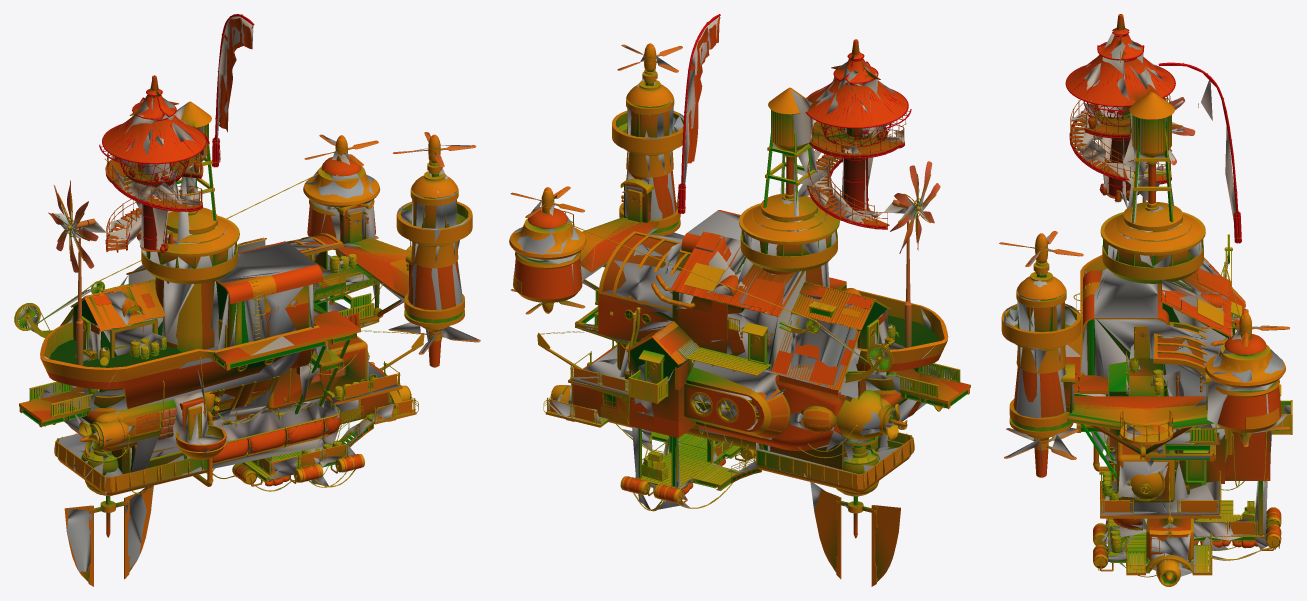
Rendered from SpliceA.glb.
3 renders of one model, left to right at view 1: azimuth 30°, elevation 25°; view 2: azimuth 150°, elevation 25°; view 3: azimuth 270°, elevation 25°, orthographic. The views are drawn at different scales.
Visible parts, largest first — view 1: L0, L2, L1; view 2: L0, L2, L1; view 3: L0, L2, L1.
Boxes of the visible parts, box(x1,y1,x2,y2) form: L0: box(14, 14, 480, 586); L2: box(17, 16, 477, 571); L1: box(15, 15, 478, 584); L0: box(509, 14, 970, 586); L2: box(514, 17, 956, 577); L1: box(510, 17, 969, 585); L0: box(999, 14, 1292, 586); L2: box(1004, 33, 1290, 576); L1: box(1000, 14, 1289, 585).
Size of the model in its own units: 32.37 by 38.58 by 18.49.
